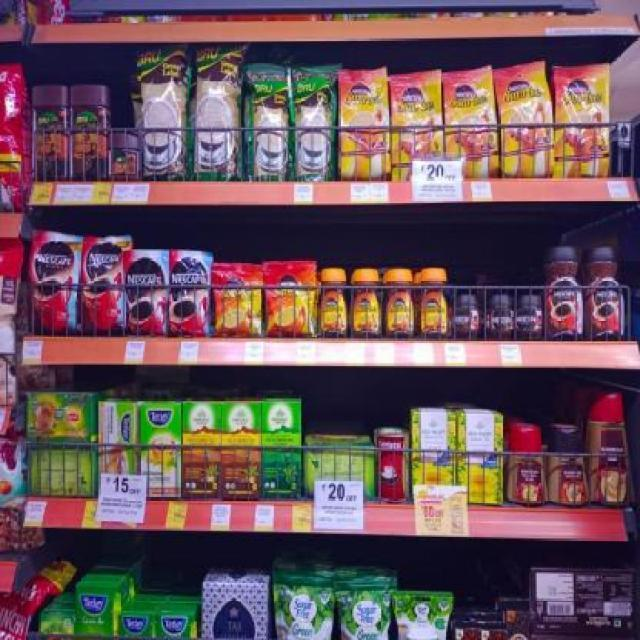Coffee: (498, 66, 554, 177), (556, 69, 609, 178), (445, 73, 499, 179), (340, 70, 391, 178), (391, 73, 442, 179), (29, 234, 78, 335), (81, 239, 126, 334), (586, 245, 626, 340), (546, 245, 585, 340), (126, 252, 168, 335), (265, 262, 312, 336), (170, 253, 208, 337), (216, 267, 262, 334), (351, 268, 380, 336), (419, 269, 448, 334), (319, 269, 348, 334), (385, 271, 414, 335), (515, 294, 544, 335), (484, 294, 512, 335), (450, 295, 476, 334)
